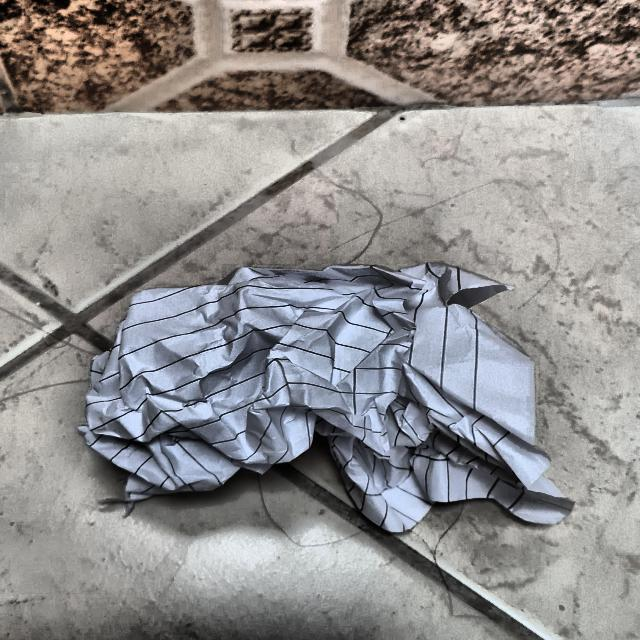paper: (100, 262, 545, 535)
